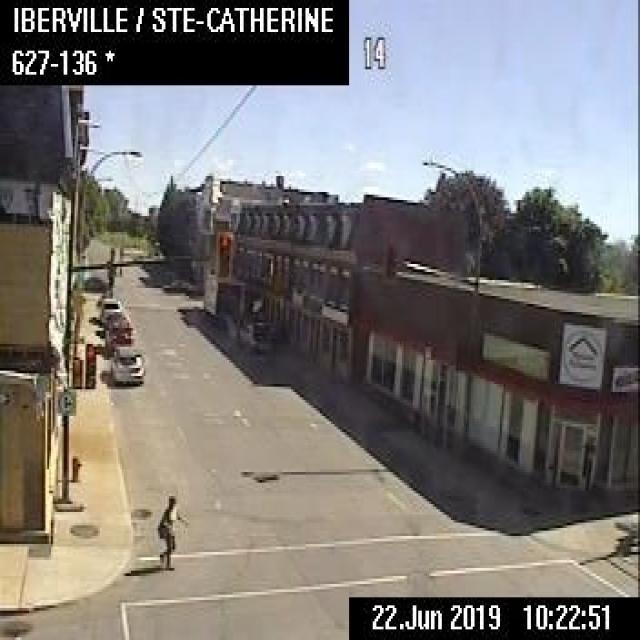pedestrian: (155, 493, 178, 571)
vehicle: (202, 271, 246, 338), (110, 344, 144, 383), (238, 319, 276, 352), (104, 313, 133, 356), (100, 296, 121, 324), (80, 273, 107, 291)
